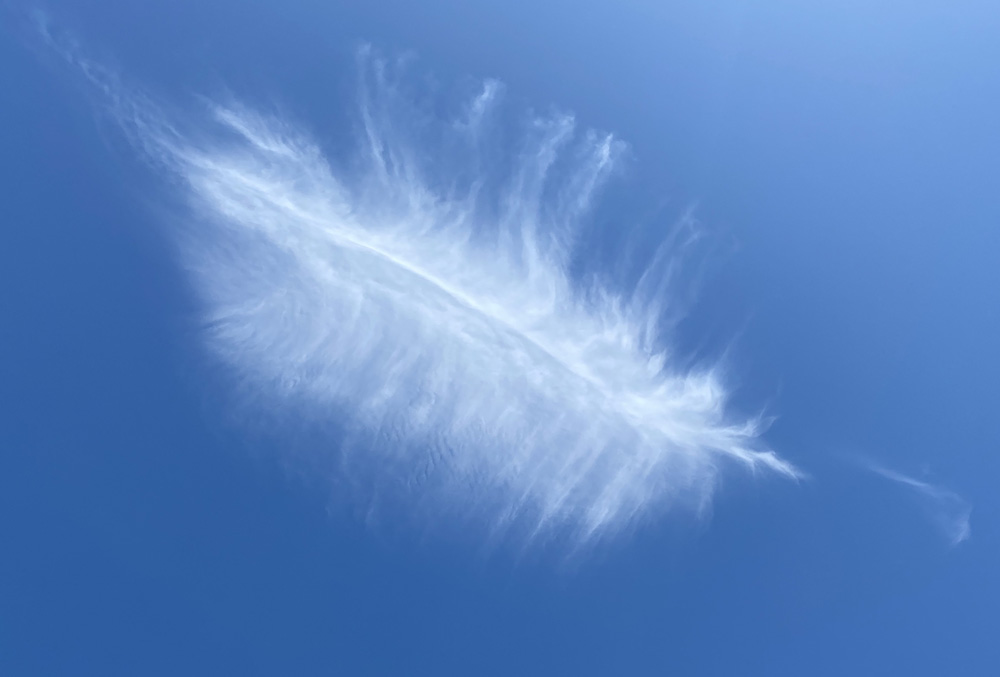Cirrus: (101, 39, 814, 560)
